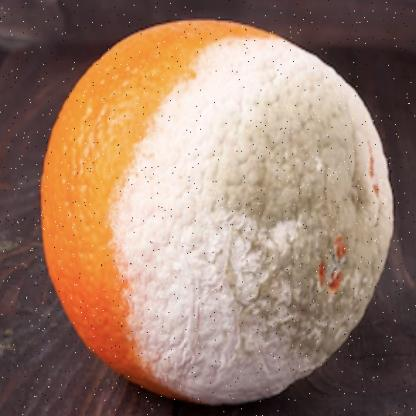rotten: (42, 19, 394, 400)
